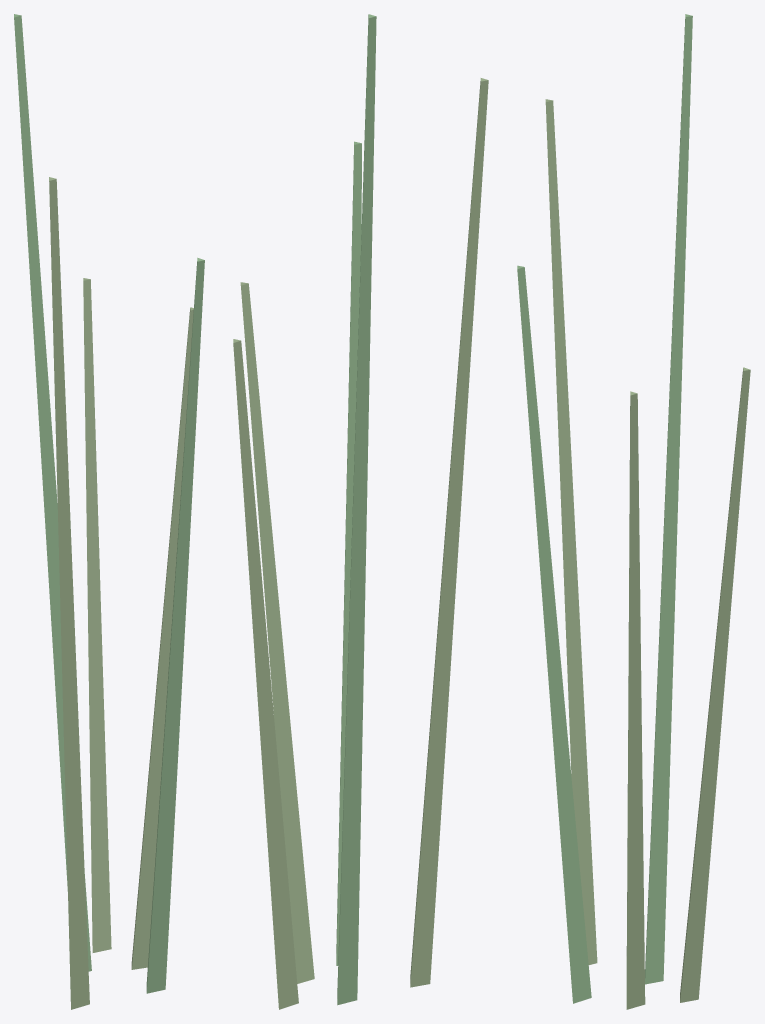
The model's file is reed_v08.glb.
The picture shows the model from 3 angles, left to right: view 1: azimuth 30°, elevation 25°; view 2: azimuth 150°, elevation 25°; view 3: azimuth 270°, elevation 25°; orthographic projection. The views are drawn at different scales.
Visible parts, largest first — view 1: lod0; view 2: lod0; view 3: lod0.
Part boxes in pixels (x1,y1,x2,y2): lod0: (14,14,204,1009); lod0: (233,14,488,1009); lod0: (517,14,750,1009).
Size of what is drawn, in the model's own units: 0.3499 by 1.67 by 0.3734.
